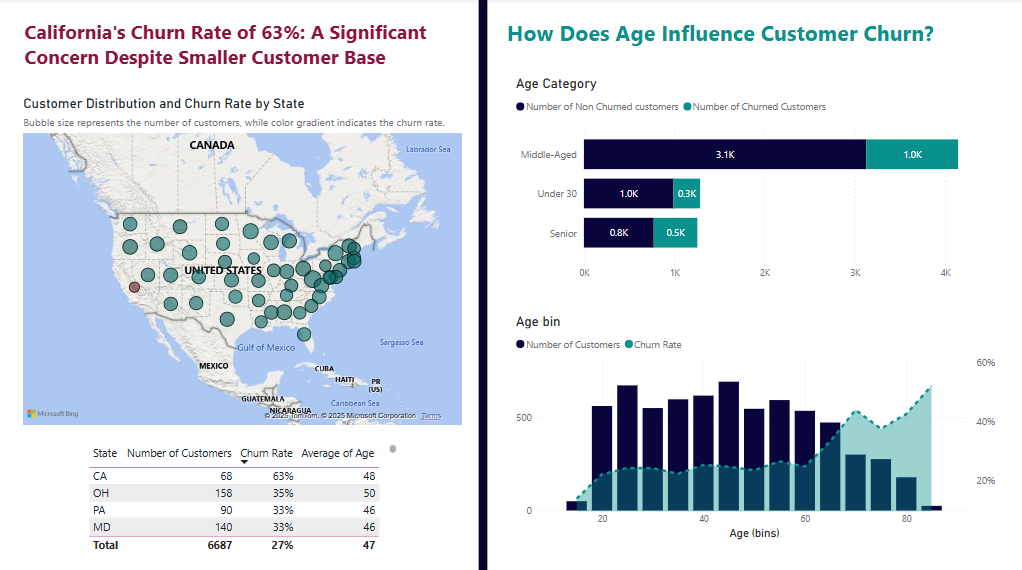

The page's visual inventory and layout, read from the dashboard file:
{"tool":"powerbi","page":{"name":"State and Age-Based Analysis","canvas":[1280,720],"ordinal":1},"visuals":[{"type":"map","title":"Customer Distribution and Churn Rate by State","fields":{"Category":["Databel - Data.State"],"Size":["Databel - Data.Number of Customers"]},"box":[26.4,121.3,555.4,415.4],"z":0},{"type":"tableEx","fields":{"Values":["Databel - Data.State","Databel - Data.Number of Customers","Databel - Data.Churn Rate","Avg(Databel - Data.Age)"]},"box":[107.3,550.7,393.6,144.7],"z":1000},{"type":"lineClusteredColumnComboChart","fields":{"Category":["Databel - Data.Age (bins)"],"Y":["Databel - Data.Number of Customers"],"Y2":["Databel - Data.Churn Rate"]},"box":[639.4,392,606.7,287.8],"z":2000},{"type":"barChart","fields":{"Category":["Databel - Data.Demographics"],"Y":["Databel - Data.Number of Non Churned customers","Databel - Data.Number of Churned Customers"]},"box":[639.4,96.5,606.7,262.9],"z":3000},{"type":"shape","box":[606.7,20.2,12.4,700.1],"z":4000},{"type":"textbox","box":[628.5,20.2,633.2,54.4],"z":6000},{"type":"textbox","box":[28,20.2,555.4,76.2],"z":7000}]}

Visuals, with their boxes in screenshot pixels (x1, y1, x2, y2), scaled from the page's 1280x720 canvas onto the 1022x570 screenshot:
"Customer Distribution and Churn Rate by State" map: BBox(21, 96, 465, 425)
tableEx - Databel - Data.State x Databel - Data.Number of Customers: BBox(86, 436, 400, 551)
lineClusteredColumnComboChart - Databel - Data.Age (bins) x Databel - Data.Number of Customers: BBox(511, 310, 995, 538)
barChart - Databel - Data.Demographics x Databel - Data.Number of Non Churned customers: BBox(511, 76, 995, 285)
shape: BBox(484, 16, 494, 569)
textbox: BBox(502, 16, 1007, 59)
textbox: BBox(22, 16, 466, 76)
